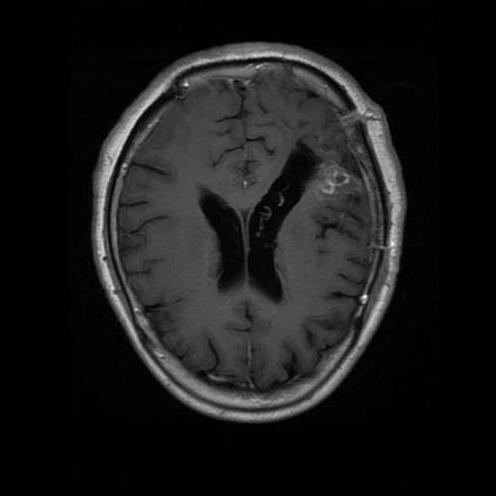Tumour-Glioma: (310, 141, 366, 227)
